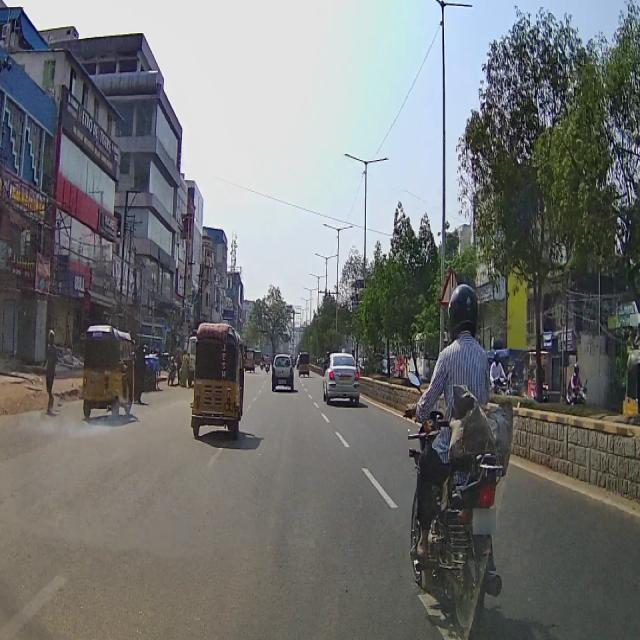auto ahead at: (193, 317, 244, 440), (89, 324, 135, 423)
car ahead at: (326, 355, 362, 407)
motorcycle ahead at: (405, 414, 510, 625)
